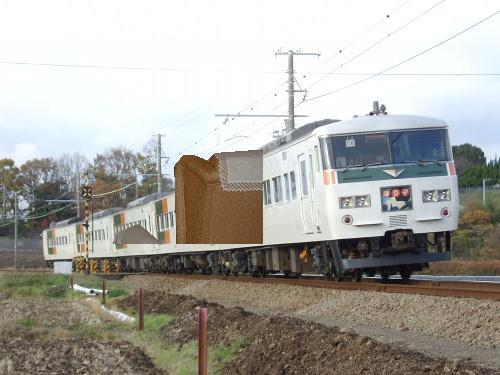tampered: (114, 150, 263, 244)
